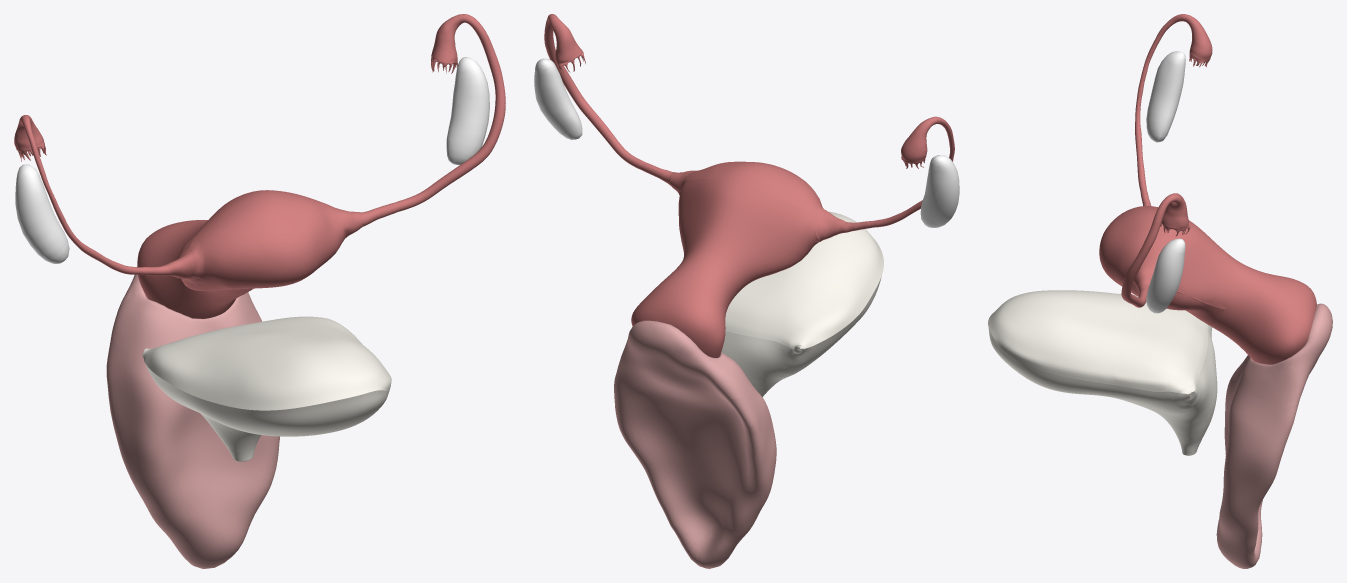
Rendered from female-reproductive-delta.glb.
The picture shows the model from 3 angles, left to right: view 1: azimuth 30°, elevation 25°; view 2: azimuth 150°, elevation 25°; view 3: azimuth 270°, elevation 25°; orthographic projection. The views are drawn at different scales.
Parts seen in each view (by area): view 1: VH_F_vagina, VH_F_fundus_of_urinary_bladder_dome, VH_F_fundus_of_uterus, VH_F_fundus_of_urinary_bladder_base, VH_F_cervicovaginal_junction, VH_F_cervix, VH_F_left_ovary, VH_F_right_ovary, VH_F_ampulla_of_uterine_tube_L, VH_F_ampulla_of_uterine_tube_R, VH_F_cornua, VH_F_uterine_tube_infundibulum_L; view 2: VH_F_vagina, VH_F_fundus_of_urinary_bladder_dome, VH_F_body_of_uterus, VH_F_cervicovaginal_junction, VH_F_cervix, VH_F_fundus_of_urinary_bladder_base, VH_F_fundus_of_uterus, VH_F_left_ovary, VH_F_right_ovary, VH_F_ampulla_of_uterine_tube_L, VH_F_lower_uterine_segment, VH_F_cornua (+3 smaller); view 3: VH_F_fundus_of_urinary_bladder_dome, VH_F_vagina, VH_F_fundus_of_urinary_bladder_base, VH_F_cervix, VH_F_cervicovaginal_junction, VH_F_body_of_uterus, VH_F_fundus_of_uterus, VH_F_right_ovary, VH_F_left_ovary, VH_F_lower_uterine_segment, VH_F_ampulla_of_uterine_tube_L, VH_F_ampulla_of_uterine_tube_R (+3 smaller).
Part boxes in pixels (x1,y1,x2,y2): VH_F_vagina: (106, 315, 280, 568); VH_F_fundus_of_urinary_bladder_dome: (142, 316, 391, 410); VH_F_fundus_of_uterus: (187, 190, 346, 287); VH_F_fundus_of_urinary_bladder_base: (145, 363, 389, 452); VH_F_cervicovaginal_junction: (111, 274, 259, 354); VH_F_cervix: (137, 220, 236, 318); VH_F_left_ovary: (446, 57, 489, 165); VH_F_right_ovary: (15, 164, 69, 263); VH_F_ampulla_of_uterine_tube_L: (396, 14, 505, 211); VH_F_ampulla_of_uterine_tube_R: (21, 115, 142, 274); VH_F_cornua: (166, 208, 363, 279); VH_F_uterine_tube_infundibulum_L: (431, 14, 461, 61); VH_F_vagina: (614, 371, 776, 568); VH_F_fundus_of_urinary_bladder_dome: (725, 211, 883, 349); VH_F_body_of_uterus: (678, 178, 820, 287); VH_F_cervicovaginal_junction: (617, 320, 752, 398); VH_F_cervix: (631, 267, 729, 357); VH_F_fundus_of_urinary_bladder_base: (721, 277, 881, 396); VH_F_fundus_of_uterus: (683, 161, 823, 215); VH_F_left_ovary: (534, 58, 582, 139); VH_F_right_ovary: (920, 155, 959, 227); VH_F_ampulla_of_uterine_tube_L: (544, 14, 644, 169); VH_F_lower_uterine_segment: (676, 250, 744, 304); VH_F_cornua: (669, 170, 845, 241); VH_F_fundus_of_urinary_bladder_dome: (988, 290, 1208, 394); VH_F_vagina: (1216, 358, 1298, 568); VH_F_fundus_of_urinary_bladder_base: (988, 325, 1217, 446); VH_F_cervix: (1228, 272, 1316, 364); VH_F_cervicovaginal_junction: (1239, 303, 1332, 408); VH_F_body_of_uterus: (1168, 220, 1241, 314); VH_F_fundus_of_uterus: (1099, 206, 1179, 293); VH_F_right_ovary: (1146, 51, 1185, 142); VH_F_left_ovary: (1146, 238, 1185, 313); VH_F_lower_uterine_segment: (1210, 263, 1262, 336); VH_F_ampulla_of_uterine_tube_L: (1121, 193, 1177, 307); VH_F_ampulla_of_uterine_tube_R: (1135, 14, 1189, 189).
Bounding box in the file's own units: 0.1274 × 0.1374 × 0.0928.
